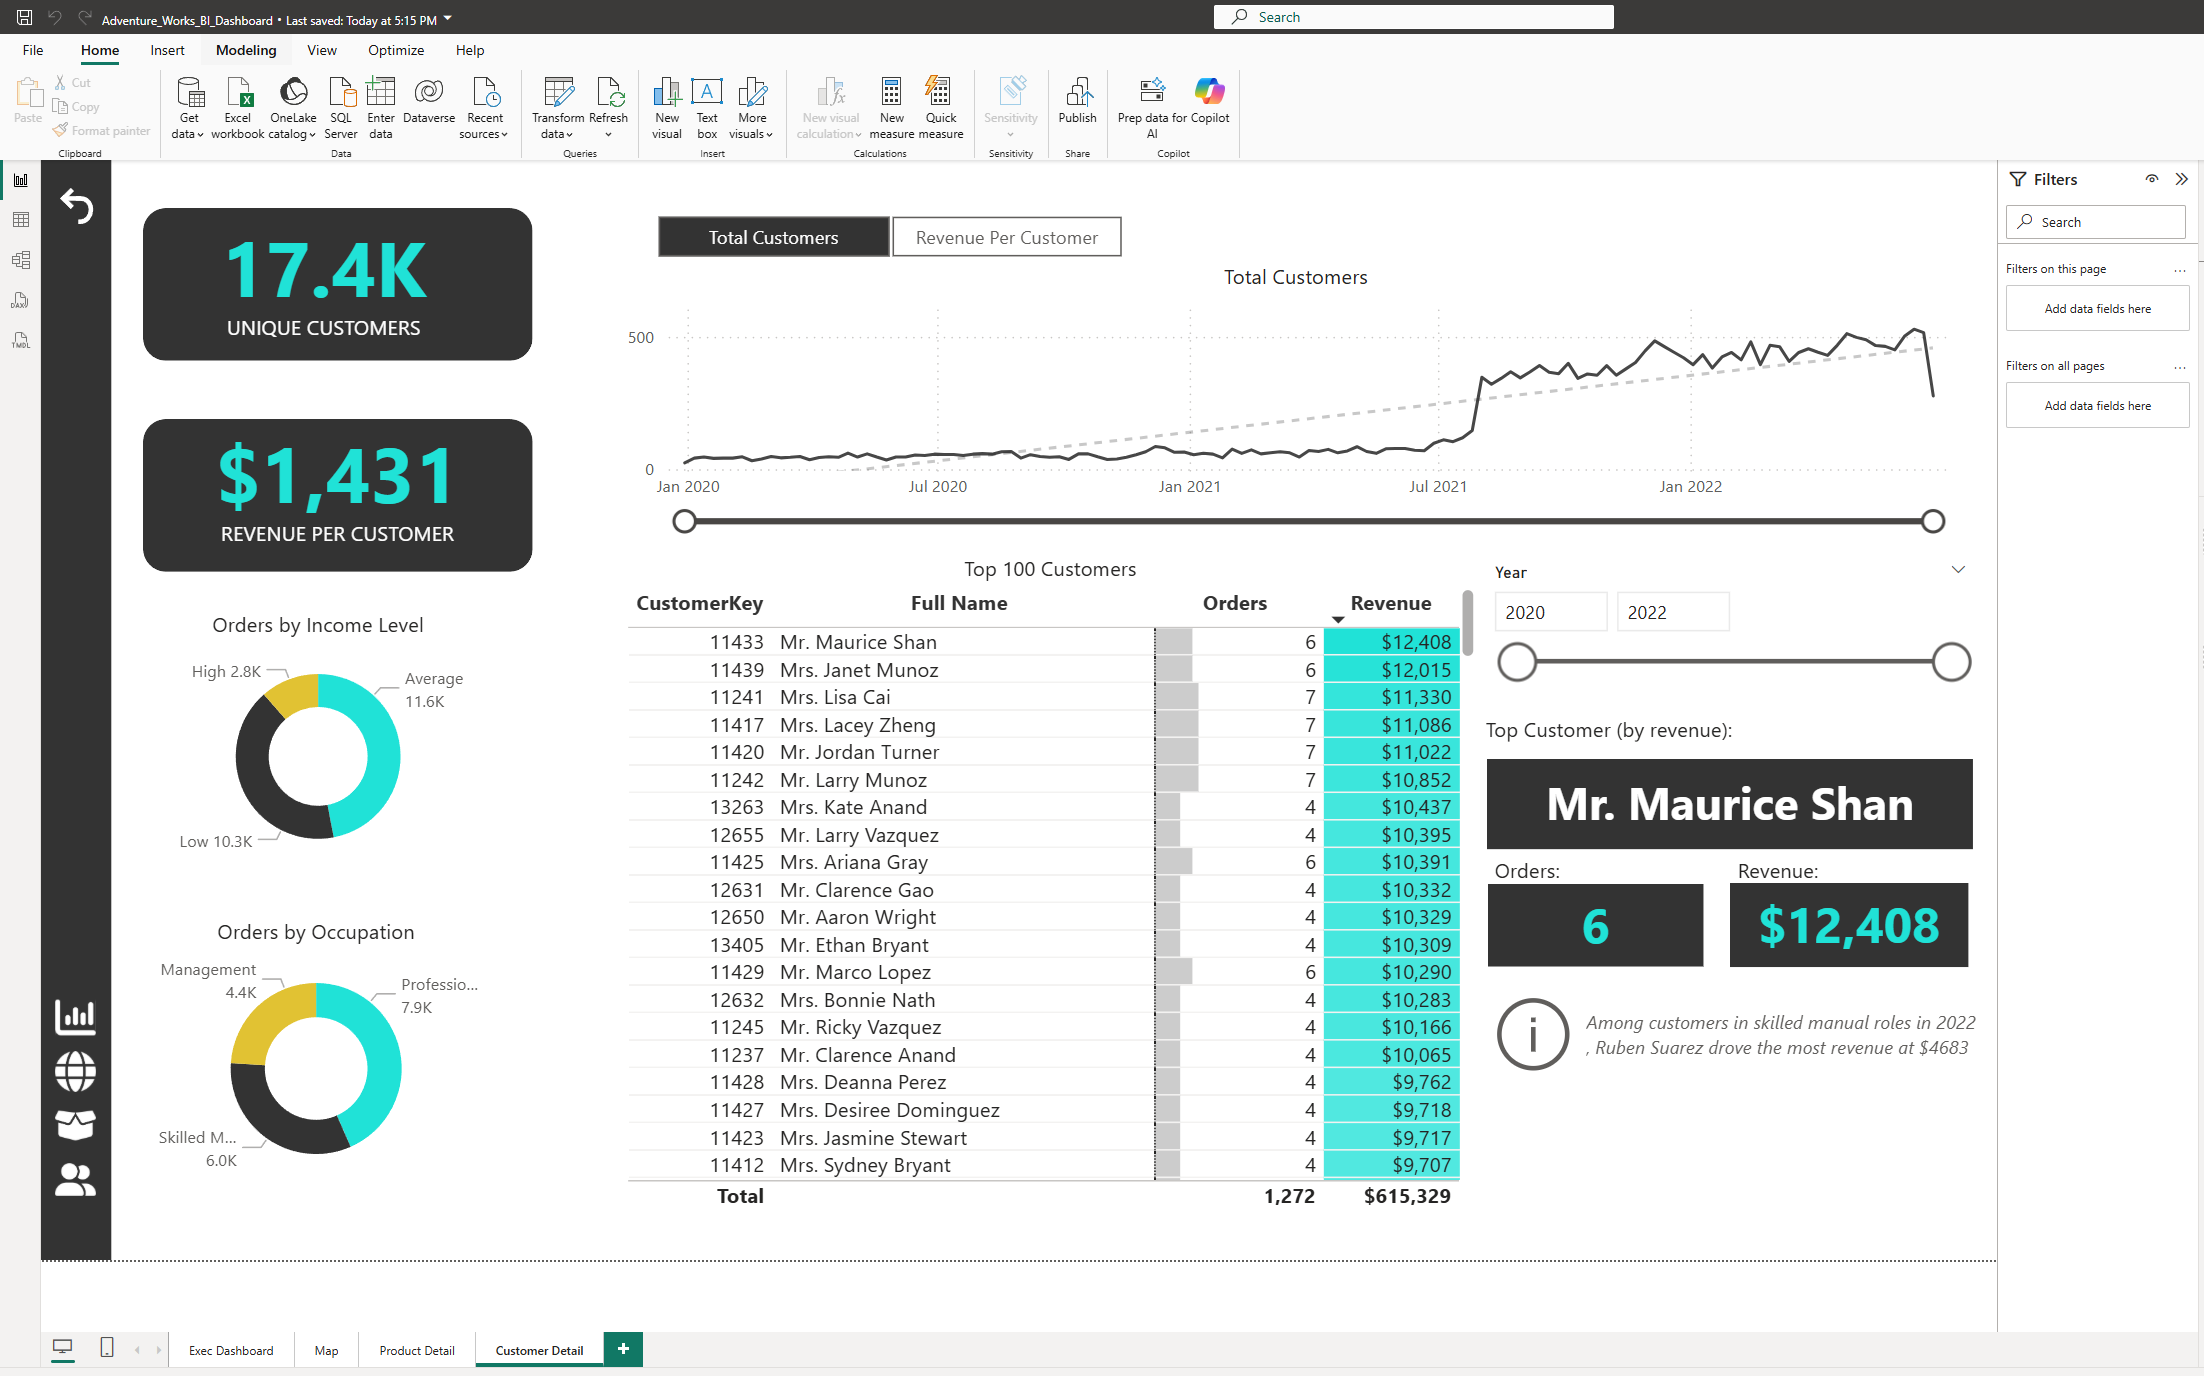

The page's visual inventory and layout, read from the dashboard file:
{"tool":"powerbi","page":{"name":"Customer Detail","canvas":[1280,720],"ordinal":3},"visuals":[{"type":"shape","box":[0,0,46.4,720],"z":0},{"type":"actionButton","box":[5,543.7,36.6,34.7],"z":0,"group":"g1"},{"type":"shape","box":[66.4,31.4,255,100],"z":1000},{"type":"actionButton","box":[5,579,36.6,34.7],"z":1000,"group":"g1"},{"type":"shape","box":[66.4,169.3,255,100],"z":2000},{"type":"actionButton","box":[5,614.4,36.6,34.7],"z":2000,"group":"g1"},{"type":"card","fields":{"Values":["Measure Table.Total Customers"]},"box":[92.1,21.4,185.7,110],"z":3000},{"type":"actionButton","box":[5,649.7,36.6,34.7],"z":3000,"group":"g1"},{"type":"card","fields":{"Values":["Measure Table.Average Revenue Per Customer"]},"box":[95.7,140.7,197.1,141.4],"z":4000},{"type":"lineChart","fields":{"Y":["Measure Table.Total Customers"],"Category":["Calendar Lookup.Date Hierarchy.Year","Calendar Lookup.Date Hierarchy.Start of Month","Calendar Lookup.Date Hierarchy.Start of Week","Calendar Lookup.Date Hierarchy.Date"]},"box":[378.2,67.4,886.1,180],"z":5000},{"type":"donutChart","title":"Orders by Income Level","fields":{"Category":["Customer Lookup.Income Level"],"Y":["Measure Table.Total Orders"]},"box":[69.3,295.3,224,173.3],"z":6000},{"type":"donutChart","title":"Orders by Occupation","fields":{"Y":["Measure Table.Total Orders"],"Category":["Customer Lookup.Occupation"]},"box":[66.7,496,226.7,180],"z":7000},{"type":"tableEx","title":"Top 100 Customers","fields":{"Values":["Customer Lookup.CustomerKey","Customer Lookup.Full Name","Measure Table.Total Orders","Measure Table.Total Revenue"]},"box":[378,258.7,564.7,432],"z":8000},{"type":"card","fields":{"Values":["Measure Table.Full Name (Customer Detail)"]},"box":[946.3,392,318,58.9],"z":9000},{"type":"textbox","box":[940.4,358.3,282.7,27.5],"z":10000},{"type":"textbox","box":[1105.3,450.6,86.4,28.1],"z":11000},{"type":"textbox","box":[946.3,450.6,86.4,27.5],"z":12000},{"type":"card","fields":{"Values":["Measure Table.Total Orders (Customer Detail)"]},"box":[946.9,473.5,140.7,54.3],"z":13000},{"type":"card","fields":{"Values":["Measure Table.Total Revenue (Customer Detail)"]},"box":[1105,472.8,155.7,55],"z":14000},{"type":"slicer","fields":{"Values":["Calendar Lookup.Year"]},"box":[938.4,258.5,333.7,90.3],"z":15000},{"type":"actionButton","box":[946.4,541.9,326,60.6],"z":16000},{"type":"actionButton","box":[7.1,10.7,32.9,38.6],"z":17000},{"type":"group","id":"g1","title":"Navigation Buttons","box":[5,543.7,36.8,141.3],"z":18000},{"type":"slicer","fields":{"Values":["Customer Metric Selection.Customer Metric Selection"]},"box":[378.2,30.1,353.4,35.3],"z":18501}]}

Visuals, with their boxes on the page's 1280x720 design canvas (x1, y1, x2, y2). These are canvas units, not pixel positions in the 2204x1376 screenshot, which may show the page scaled, cropped or inside an application window:
shape: (0, 0, 46, 720)
actionButton: (5, 544, 42, 578)
shape: (66, 31, 321, 131)
actionButton: (5, 579, 42, 614)
shape: (66, 169, 321, 269)
actionButton: (5, 614, 42, 649)
card - Measure Table.Total Customers: (92, 21, 278, 131)
actionButton: (5, 650, 42, 684)
card - Measure Table.Average Revenue Per Customer: (96, 141, 293, 282)
lineChart - Measure Table.Total Customers x Calendar Lookup.Date Hierarchy.Year: (378, 67, 1264, 247)
"Orders by Income Level" donutChart: (69, 295, 293, 469)
"Orders by Occupation" donutChart: (67, 496, 293, 676)
"Top 100 Customers" tableEx: (378, 259, 943, 691)
card - Measure Table.Full Name (Customer Detail): (946, 392, 1264, 451)
textbox: (940, 358, 1223, 386)
textbox: (1105, 451, 1192, 479)
textbox: (946, 451, 1033, 478)
card - Measure Table.Total Orders (Customer Detail): (947, 474, 1088, 528)
card - Measure Table.Total Revenue (Customer Detail): (1105, 473, 1261, 528)
slicer - Calendar Lookup.Year: (938, 258, 1272, 349)
actionButton: (946, 542, 1272, 602)
actionButton: (7, 11, 40, 49)
"Navigation Buttons" group: (5, 544, 42, 685)
slicer - Customer Metric Selection.Customer Metric Selection: (378, 30, 732, 65)
